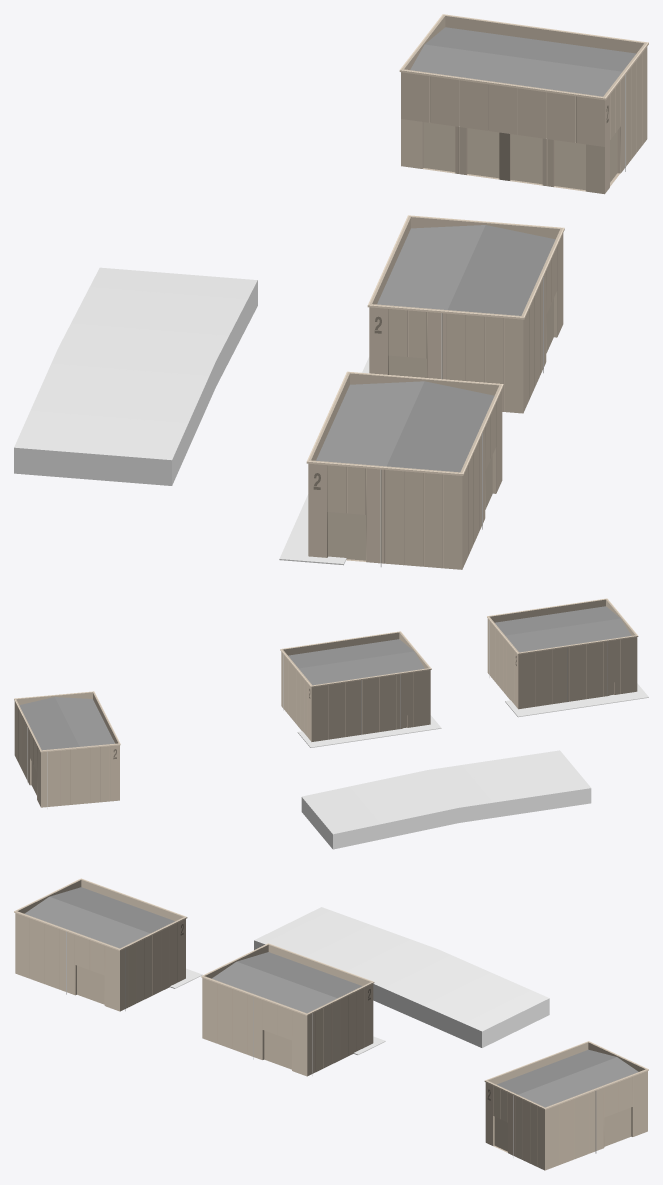
Rendered from s_building_stage_mockup.dae.
3 renders of one model, top to bottom at view 1: azimuth 30°, elevation 25°; view 2: azimuth 150°, elevation 25°; view 3: azimuth 270°, elevation 25°, orthographic. The views are drawn at different scales.
Visible parts, largest first — view 1: s_building_stage_006; view 2: s_building_stage_006; view 3: s_building_stage_006.
Part boxes in pixels (box(x1,y1,x2,y2)): s_building_stage_006: box(14, 14, 648, 569); s_building_stage_006: box(14, 598, 648, 849); s_building_stage_006: box(14, 878, 648, 1170).
Bounding box in the file's own units: 147 × 154 × 23.49.
